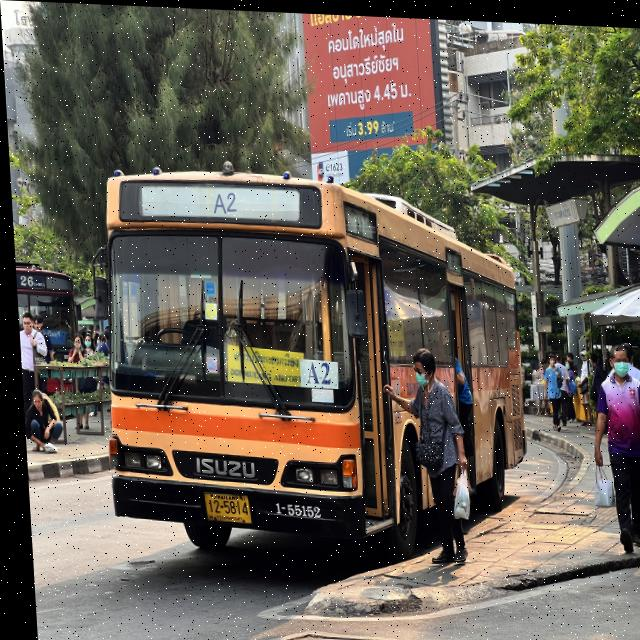BMTA-bus: (102, 169, 522, 559)
Bus Line Number: (205, 183, 242, 219)
Bus Side Number: (266, 497, 318, 518)
Destination Sign: (223, 344, 301, 385)
